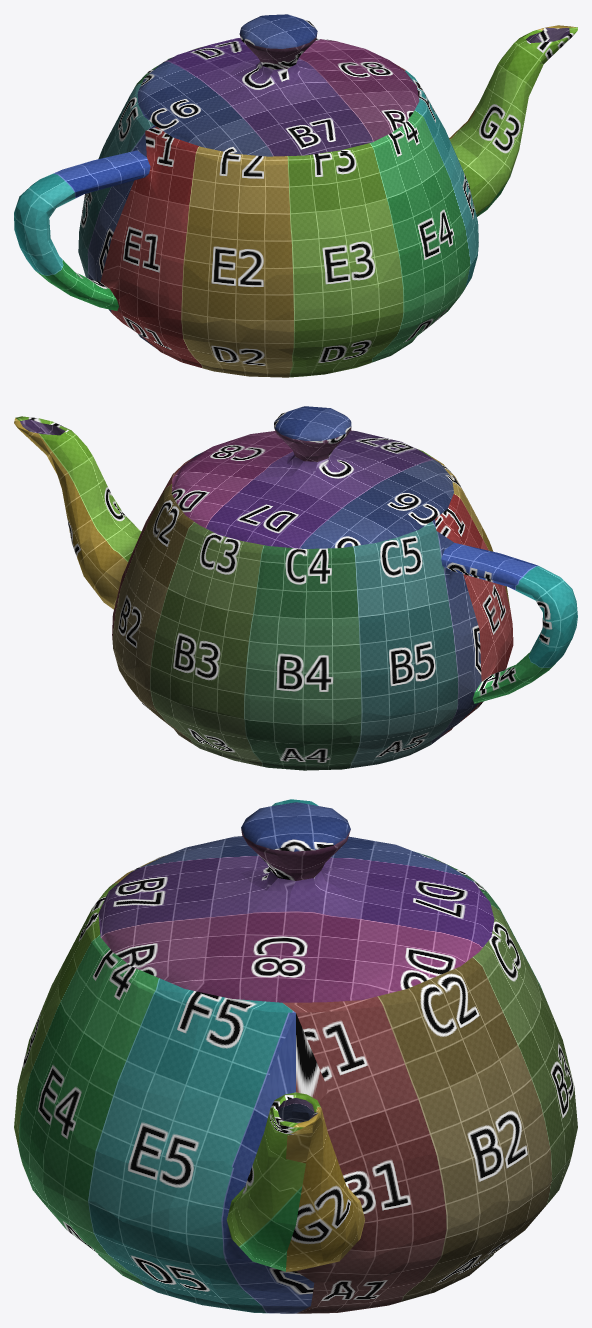
The model's file is debug.fbx.
3 views of the same model, one above another, from view 1: azimuth 30°, elevation 25°; view 2: azimuth 150°, elevation 25°; view 3: azimuth 270°, elevation 25° (orthographic). The views are drawn at different scales.
Parts seen in each view (by area): view 1: UtahTeapot_low; view 2: UtahTeapot_low; view 3: UtahTeapot_low.
Part boxes in pixels (x1,y1,x2,y2): UtahTeapot_low: (14, 14, 577, 377); UtahTeapot_low: (14, 406, 577, 770); UtahTeapot_low: (14, 799, 577, 1313).
Size of the model in its own units: 2.64 by 1.35 by 1.64.
Materials: 1 (1 with a texture image).
